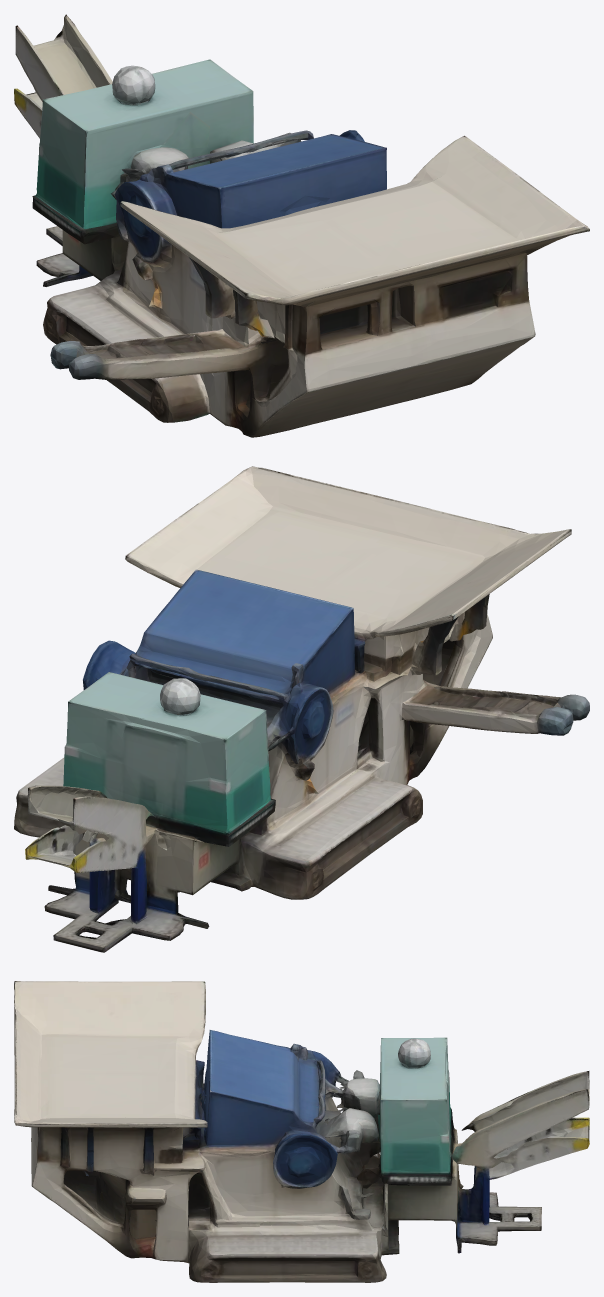
Rendered from track-mounted-mobile-projects-5.glb.
3 renders of one model, top to bottom at view 1: azimuth 30°, elevation 25°; view 2: azimuth 150°, elevation 25°; view 3: azimuth 270°, elevation 25°, orthographic. The views are drawn at different scales.
Visible parts, largest first — view 1: geometry_0; view 2: geometry_0; view 3: geometry_0.
Part boxes in pixels (box(x1,y1,x2,y2)): geometry_0: box(14, 14, 589, 437); geometry_0: box(14, 466, 589, 952); geometry_0: box(14, 981, 589, 1282).
Size of the model in its own units: 0.6822 by 0.338 by 1.
1 material, 1 textured.
